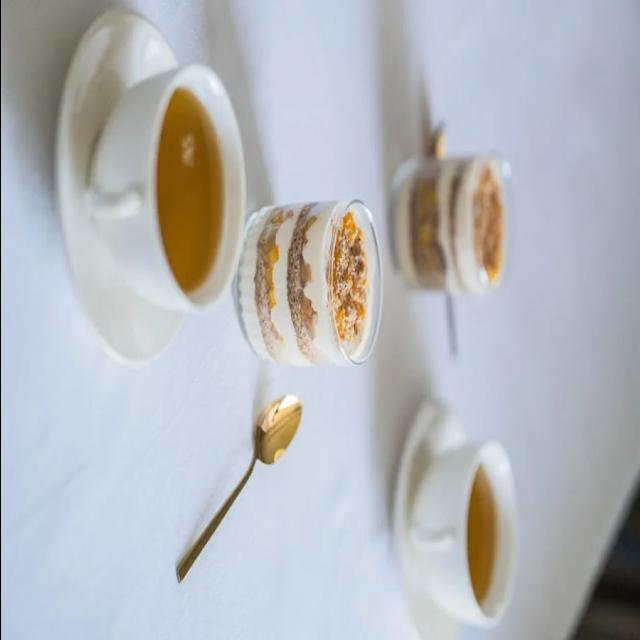spoon: (173, 394, 301, 582)
